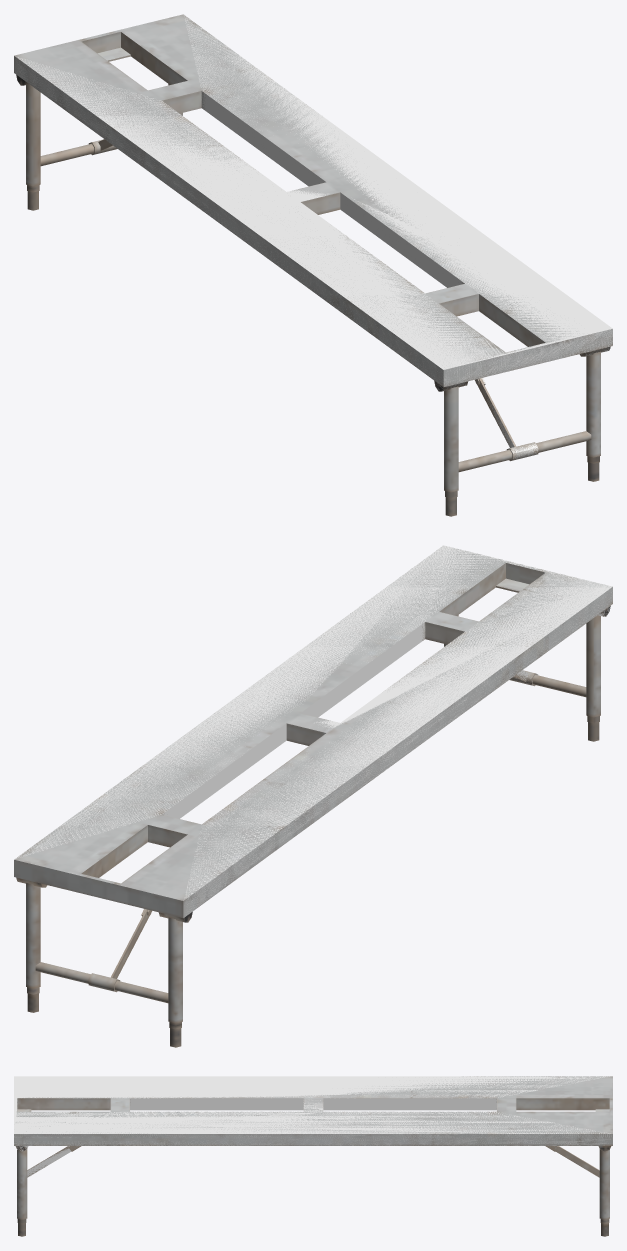
The model's file is objects_un_dlc1_t10bench01.gltf.
3 views of the same model, one above another, from view 1: azimuth 30°, elevation 25°; view 2: azimuth 150°, elevation 25°; view 3: azimuth 270°, elevation 25° (orthographic). The views are drawn at different scales.
Parts seen in each view (by area): view 1: um_objects_un_dlc1_t10bench01_model_lod0Shape:objects_un_dlc (×2); view 2: um_objects_un_dlc1_t10bench01_model_lod0Shape:objects_un_dlc (×2); view 3: um_objects_un_dlc1_t10bench01_model_lod0Shape:objects_un_dlc (×2).
Part boxes in pixels (box(x1,y1,x2,y2)): um_objects_un_dlc1_t10bench01_model_lod0Shape:objects_un_dlc (×2): box(14, 14, 612, 516); um_objects_un_dlc1_t10bench01_model_lod0Shape:objects_un_dlc (×2): box(14, 545, 612, 1047); um_objects_un_dlc1_t10bench01_model_lod0Shape:objects_un_dlc (×2): box(14, 1076, 612, 1236).
Size of what is drawn, in the model's own units: 0.41 by 0.35 by 1.8.
2 materials, 1 textured.
